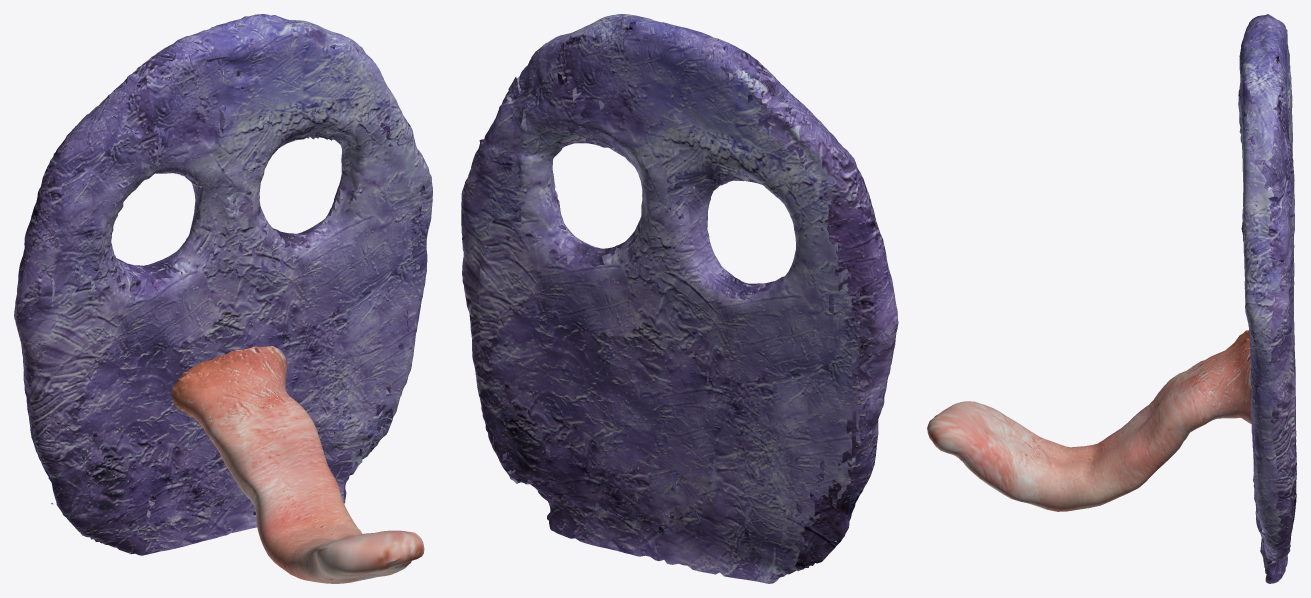
The model's file is xenoglossy-i-Gesicht_v31-1.glb.
3 views of the same model, side by side, from view 1: azimuth 30°, elevation 25°; view 2: azimuth 150°, elevation 25°; view 3: azimuth 270°, elevation 25° (orthographic). The views are drawn at different scales.
Parts seen in each view (by area): view 1: Gesicht, Zunge (Copy); view 2: Gesicht; view 3: Gesicht, Zunge (Copy).
Boxes of the visible parts, box(x1,y1,x2,y2) form: Gesicht: box(14, 14, 432, 555); Zunge (Copy): box(171, 346, 424, 583); Gesicht: box(461, 14, 898, 583); Gesicht: box(1238, 14, 1296, 583); Zunge (Copy): box(927, 330, 1251, 511).
Bounding box in the file's own units: 1.42 × 1.66 × 1.12.
Materials: 1 (1 with a texture image).
